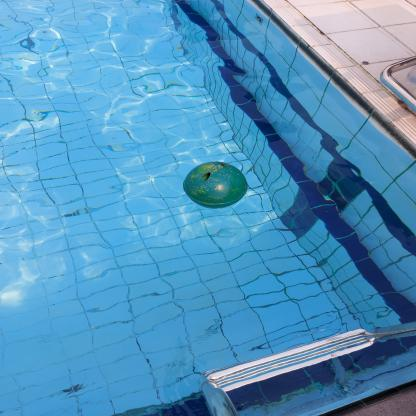green_buoy: (180, 159, 250, 211)
